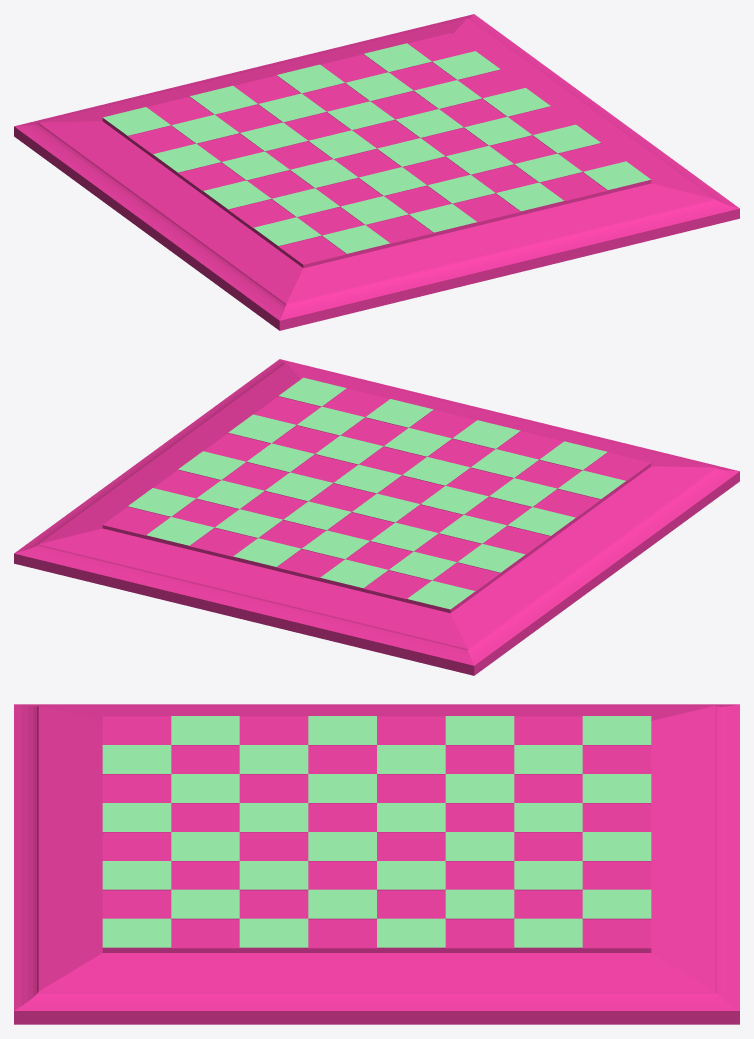
Rendered from board.fbx.
3 views of the same model, one above another, from view 1: azimuth 30°, elevation 25°; view 2: azimuth 150°, elevation 25°; view 3: azimuth 270°, elevation 25° (orthographic). The views are drawn at different scales.
Visible parts, largest first — view 1: Chess Board; view 2: Chess Board; view 3: Chess Board.
Part boxes in pixels (<box>): Chess Board: <box>14,14,739,330</box>; Chess Board: <box>14,359,739,675</box>; Chess Board: <box>14,704,739,1024</box>.
Bounding box in the file's own units: 1800 × 108 × 1800.
